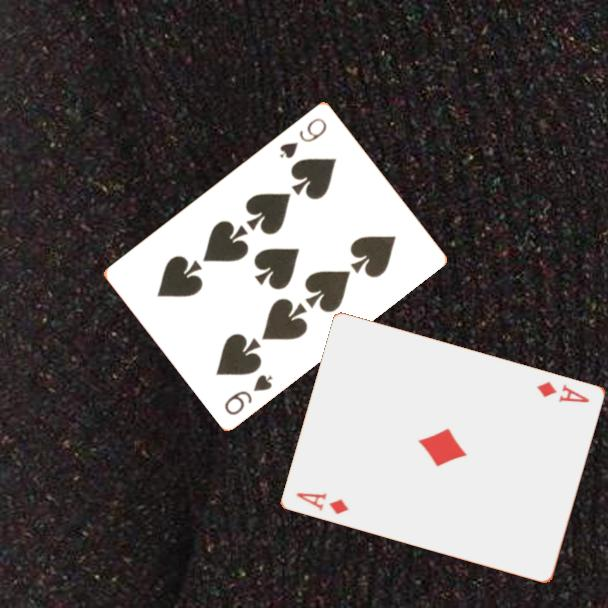d01: (533, 378, 593, 406), (293, 489, 352, 517)
s09: (221, 371, 276, 418), (276, 114, 330, 161)
